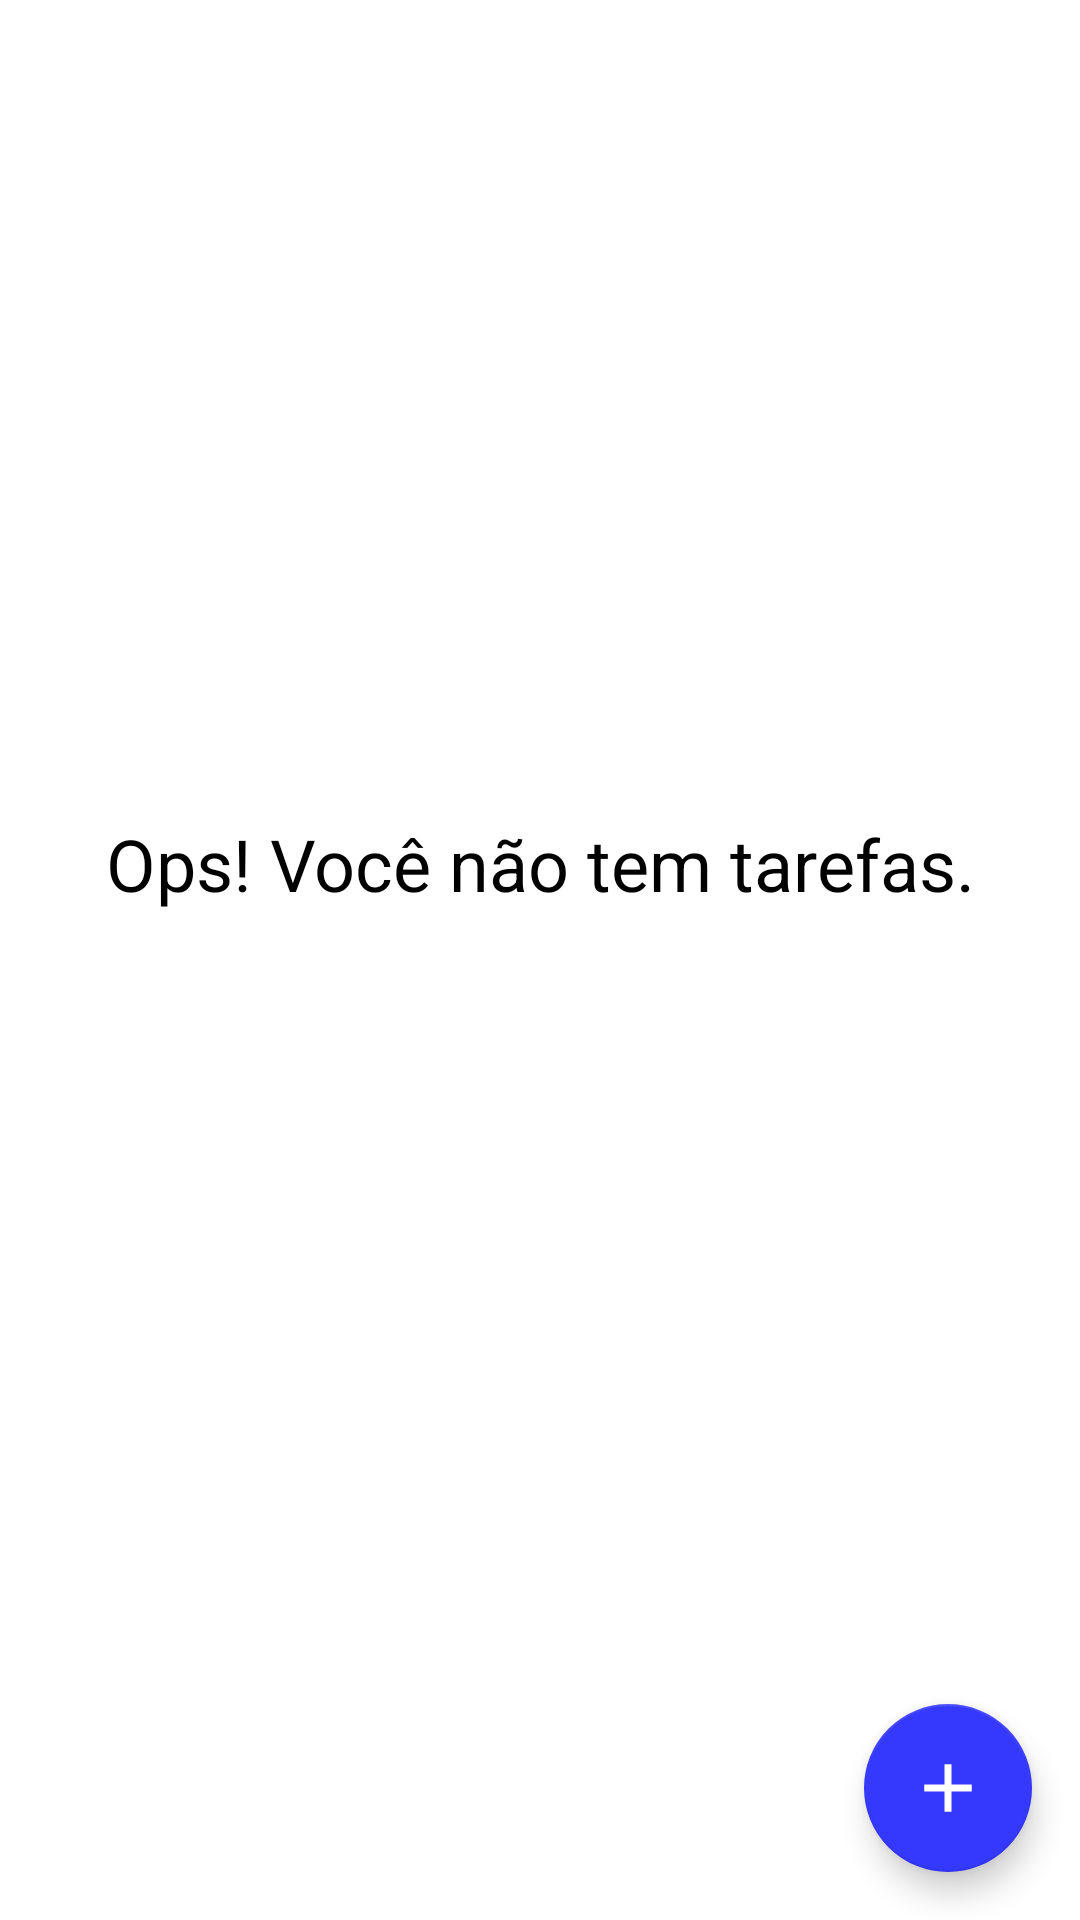

Named icons in this screenshot (1080x1920) and their centers, (x=x, y=y):
Nova tarefa: (x=948, y=1788)
